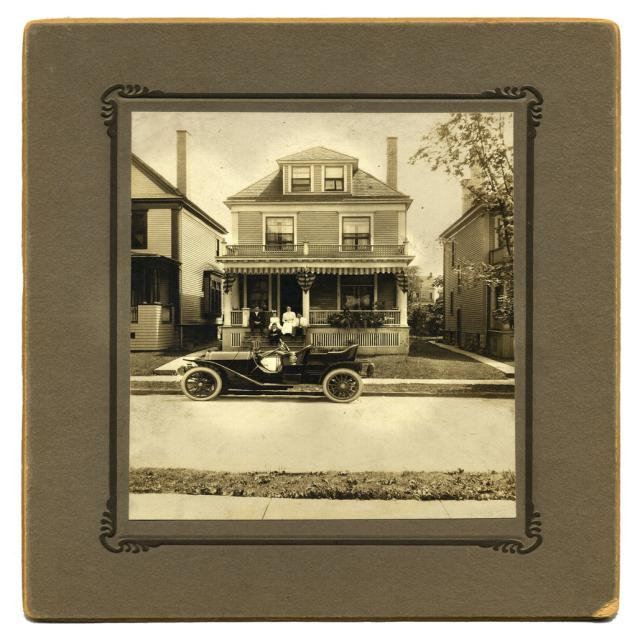car: (149, 321, 395, 408)
